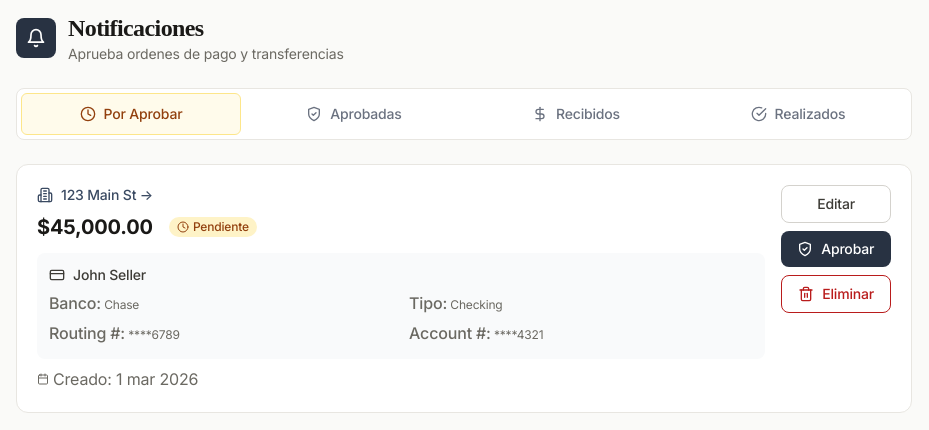
Scenario: NotificacionesPage › completed orders show reference number
Expected: the link "123 Main St →" is shown, [61,185,153,205]
Click the button "Realizados" at (798, 114), box [689,93,907,135]
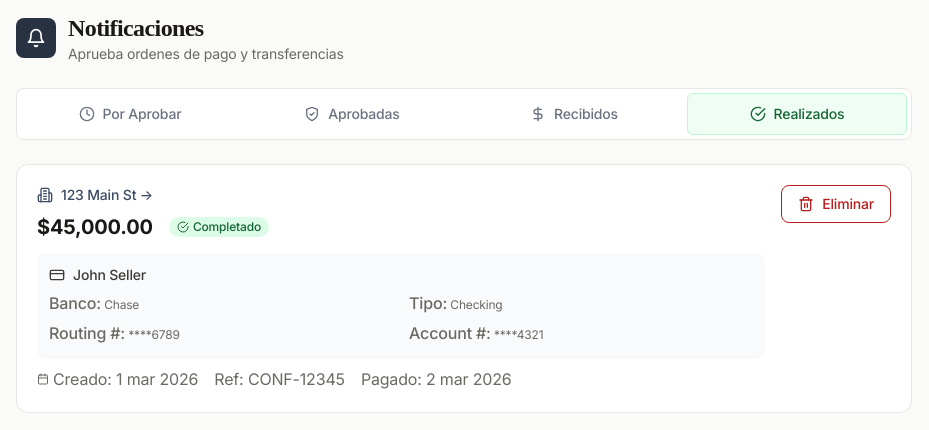
Now the text "Ref: CONF-12345" is shown, box [214,367,345,392]
